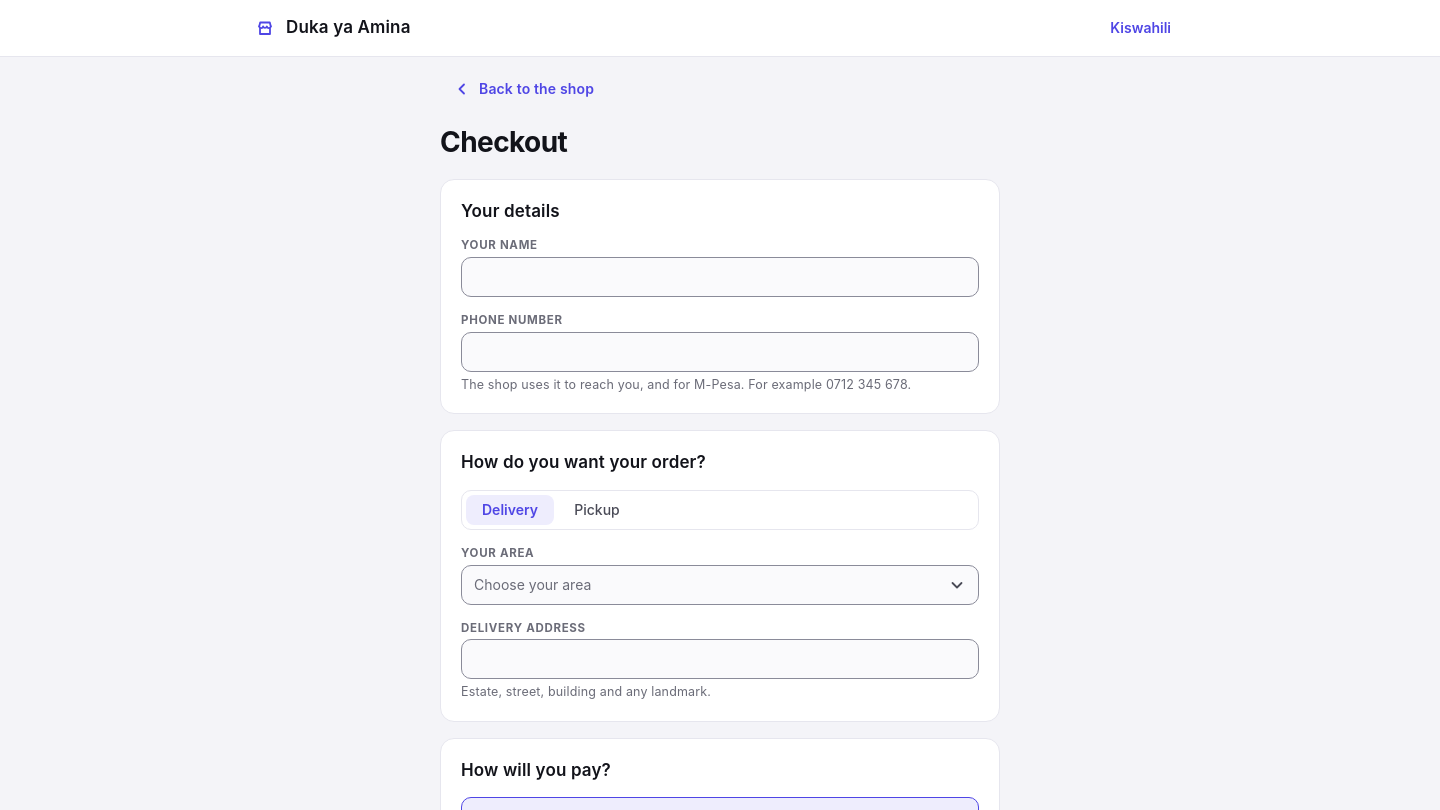
Test: checkout › charges the delivery fee for the area, as the shop worked it out
What coordinates should you click on to do the following:
click the dropdown labelled "Choose your area"
I would click on:
 (533, 584)
Its box is [461,564,979,604].
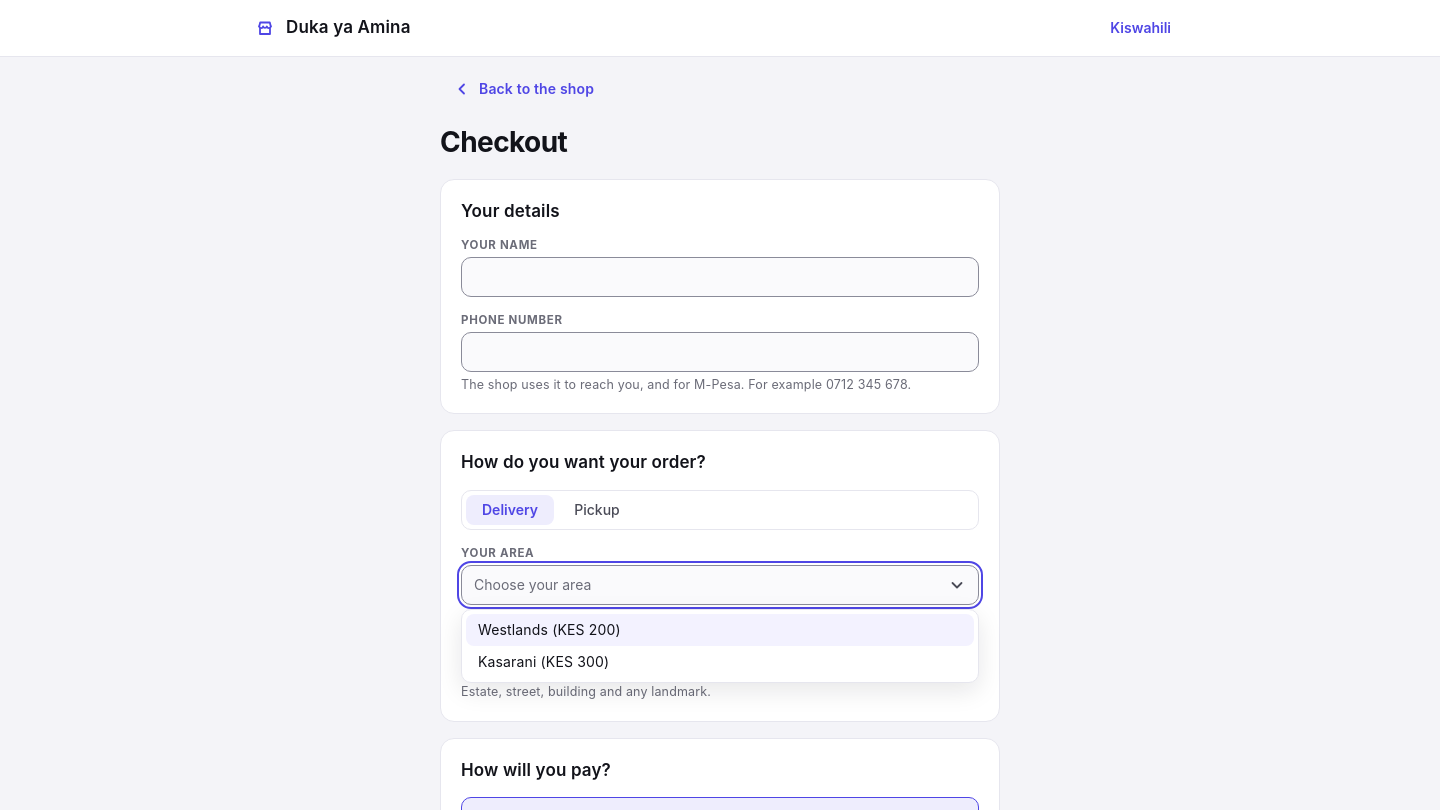
What coordinates should you click on to do the following:
click the option "Westlands (KES 200)"
I would click on:
 (549, 630)
Its box is [466,614,974,646].
(page scrolled)
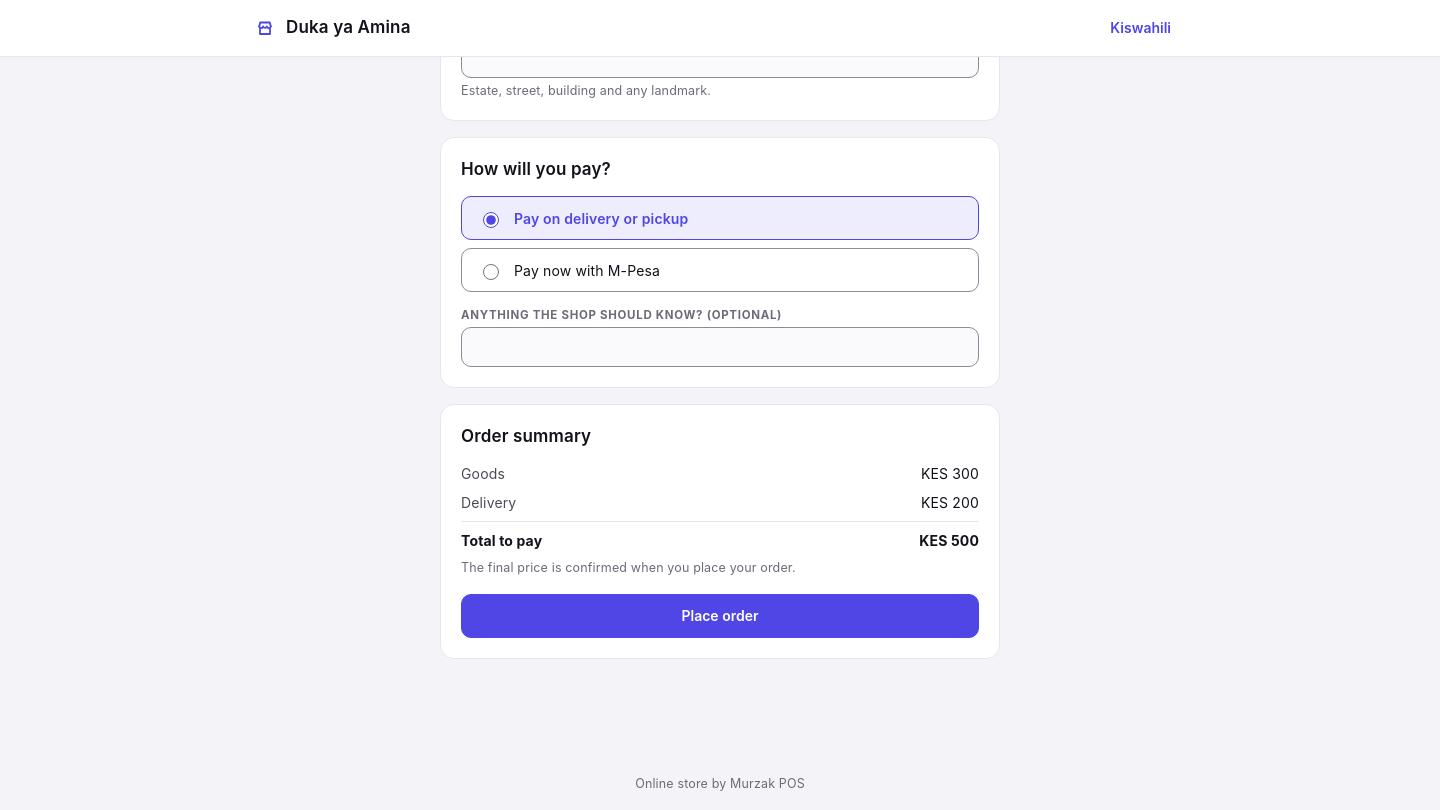
Expected: the text "Total to pay" shows "KES 500", [919,532,979,549]
Expected: the text "Delivery" shows "KES 200", [921,494,979,511]
